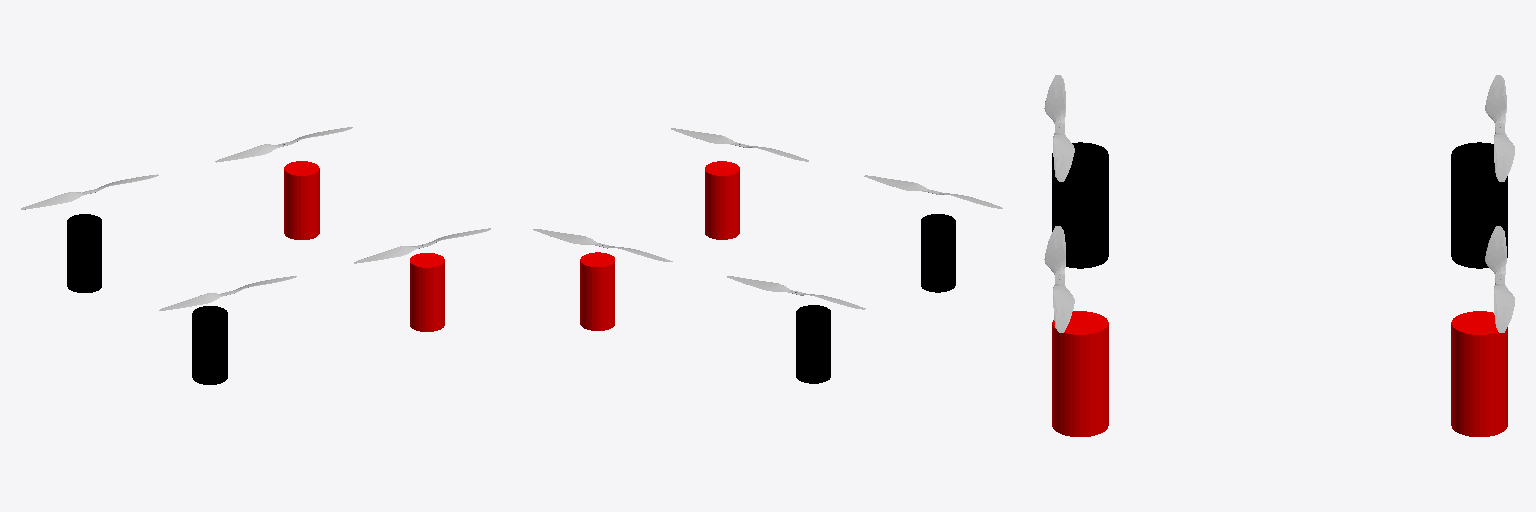
The robot description file, URDF, robot "a300":
<?xml version="1.0" ?>

<robot name="a300">

  <!-- The drone parameters and their randomization ranges are in hydra_configs/drone/a300.yaml, whose
       nominals are written into Genesis at build. kf and km are here because Genesis needs them to load. -->
  <properties kf="4.5e-8" km="5.4e-10" />

  <link name="base_link"> 

    <inertial>
      <origin rpy="0 0 0" xyz="0 0 0"/>
      <mass value="1.21"/>
      <inertia ixx=".007" ixy="0.0" ixz="0.0" iyy=".007" iyz="0.0" izz=".01"/>
    </inertial>

    <visual>
      <origin rpy="0 0 55" xyz="0 0 0.075"/>
      <geometry>
        <mesh filename="./mesh/a300/frame.stl" scale="0.001 0.001 0.001"/>
      </geometry> 
      <material name="frame">
        <color rgba="0.2 0.2 0.2 1"/>
      </material> 
    </visual>

    <visual>
      <origin rpy="0 0 55" xyz="0.106 -0.106 0.075"/>
      <geometry>
        <mesh filename="./mesh/a300/motor.stl" scale="0.001 0.001 0.001"/>
      </geometry> 
      <material name="motor">
        <color rgba="0 .0 .0 1"/>
      </material> 
    </visual>
    <visual>
      <origin rpy="0 0 55" xyz="-0.106 0.106 0.075"/>
      <geometry>
        <mesh filename="./mesh/a300/motor.stl" scale="0.001 0.001 0.001"/>
      </geometry> 
      <material name="motor">
        <color rgba="0 .0 .0 1"/>
      </material> 
    </visual>
    <visual>
      <origin rpy="0 0 55" xyz="0.106 0.106 0.075"/>
      <geometry>
        <mesh filename="./mesh/a300/motor.stl" scale="0.001 0.001 0.001"/>
      </geometry> 
      <material name="motor">
        <color rgba="0 .0 .0 1"/>
      </material> 
    </visual>
    <visual>
      <origin rpy="0 0 55" xyz="-0.106 -0.106 0.075"/>
      <geometry>
        <mesh filename="./mesh/a300/motor.stl" scale="0.001 0.001 0.001"/>
      </geometry> 
      <material name="motor">
        <color rgba="0 .0 .0 1"/>
      </material> 
    </visual>


<!-- Added 4 Cylindrical Legs -->
    <visual>
      <origin rpy="0 0 0" xyz="0.106 -0.106 -0.03"/>
      <geometry>
        <cylinder radius="0.015" length="0.06"/>
      </geometry>
      <material name="red"><color rgba="1 0 0 1"/></material>
    </visual>
    <visual>
      <origin rpy="0 0 0" xyz="-0.106 0.106 -0.03"/>
      <geometry>
        <cylinder radius="0.015" length="0.06"/>
      </geometry>
      <material name="black"><color rgba="0 0 0 1"/></material>
    </visual>
    <visual>
      <origin rpy="0 0 0" xyz="0.106 0.106 -0.03"/>
      <geometry>
        <cylinder radius="0.015" length="0.06"/>
      </geometry>
      <material name="red"><color rgba="1 0 0 1"/></material>
    </visual>
    <visual>
      <origin rpy="0 0 0" xyz="-0.106 -0.106 -0.03"/>
      <geometry>
        <cylinder radius="0.015" length="0.06"/>
      </geometry>
      <material name="black"><color rgba="0 0 0 1"/></material>
    </visual>


    <collision>
      <origin rpy="0 0 0" xyz="0 0 0"/>
      <geometry>
        <cylinder radius=".06" length=".025"/>
      </geometry>
    </collision>  

  </link>

  <!-- Rotor positions match the Gazebo model (alien_gazebo_resources a300.sdf.jinja,
       rotor_xy_offset = 0.1: x = +-0.095, y = +-0.117) instead of the symmetric +-0.106.
       Thrust is applied at each prop link's inertial origin. The frame/motor/leg visuals
       on base_link are unchanged. -->
  <link name="prop0_link">
    <inertial>
      <origin rpy="0 0 0" xyz="0.095 -0.117 0"/>
      <mass value="0"/>
      <inertia ixx="0" ixy="0" ixz="0" iyy="0" iyz="0" izz="0"/>
    </inertial>
    <visual>
      <origin rpy="0 0 0" xyz="0.095 -0.117 0.02"/>
      <geometry>
          <mesh filename="./mesh/a300/prop.dae"  scale="0.4 0.4 0.4"/>
      </geometry> 
    </visual>
  </link>
  <joint name="prop0_joint" type="fixed">
    <parent link="base_link"/>
    <child link="prop0_link"/>
  </joint>

  <link name="prop1_link">
    <inertial>
      <origin rpy="0 0 0" xyz="-0.095 0.117 0"/>
      <mass value="0"/>
      <inertia ixx="0" ixy="0" ixz="0" iyy="0" iyz="0" izz="0"/>
    </inertial>
    <visual>
      <origin rpy="0 0 0" xyz="-0.095 0.117 0.02"/>
      <geometry>
          <mesh filename="./mesh/a300/prop.dae"  scale="0.4 0.4 0.4"/>
      </geometry> 
    </visual>
  </link>
  <joint name="prop1_joint" type="fixed">
    <parent link="base_link"/>
    <child link="prop1_link"/>
  </joint>

  <link name="prop2_link">
    <inertial>
      <origin rpy="0 0 0" xyz="0.095 0.117 0"/>
      <mass value="0"/>
      <inertia ixx="0" ixy="0" ixz="0" iyy="0" iyz="0" izz="0"/>
    </inertial>
    <visual>
      <origin rpy="0 0 0" xyz="0.095 0.117 0.02"/>
      <geometry>
          <mesh filename="./mesh/a300/prop.dae"  scale="0.4 0.4 0.4"/>
      </geometry>
    </visual>
  </link>
  <joint name="prop2_joint" type="fixed">
    <parent link="base_link"/>
    <child link="prop2_link"/>
  </joint>

  <link name="prop3_link">
    <inertial>
      <origin rpy="0 0 0" xyz="-0.095 -0.117 0"/>
      <mass value="0"/>
      <inertia ixx="0" ixy="0" ixz="0" iyy="0" iyz="0" izz="0"/>
    </inertial>
    <visual>
      <origin rpy="0 0 0" xyz="-0.095 -0.117 0.02"/>
      <geometry>
          <mesh filename="./mesh/a300/prop.dae"  scale="0.4 0.4 0.4"/>
      </geometry>
    </visual>
  </link>
  <joint name="prop3_joint" type="fixed">
    <parent link="base_link"/>
    <child link="prop3_link"/>
  </joint>


  <link name="center_of_mass_link">
    <inertial>
      <origin rpy="0 0 0" xyz="0 0 0"/>
      <mass value="0"/>
      <inertia ixx="0" ixy="0" ixz="0" iyy="0" iyz="0" izz="0"/>
    </inertial>
  </link>
  <joint name="center_of_mass_joint" type="fixed">
    <parent link="base_link"/>
    <child link="center_of_mass_link"/>
  </joint>

</robot>

--- Facts derived from the render (not from the file) ---
3 views of the same robot in one strip: view 1: azimuth 30°, elevation 25°; view 2: azimuth 150°, elevation 25°; view 3: azimuth 270°, elevation 25° (orthographic).
Robot: a300 — 6 links, 5 joints (5 fixed); root link base_link; default pose: every joint at zero.
Visible links, largest first — view 1: base_link, prop2_link, prop0_link, prop1_link, prop3_link; view 2: base_link, prop2_link, prop0_link, prop3_link, prop1_link; view 3: base_link, prop1_link, prop2_link, prop0_link, prop3_link.
Boxes of the visible links, left/top/right/bottom form: base_link: left=67, top=161, right=444, bottom=384; prop2_link: left=215, top=127, right=352, bottom=162; prop0_link: left=354, top=228, right=490, bottom=263; prop1_link: left=21, top=174, right=158, bottom=209; prop3_link: left=159, top=276, right=296, bottom=310; base_link: left=580, top=161, right=955, bottom=383; prop2_link: left=533, top=229, right=672, bottom=261; prop0_link: left=671, top=128, right=808, bottom=161; prop3_link: left=864, top=175, right=1002, bottom=208; prop1_link: left=727, top=276, right=865, bottom=309; base_link: left=1052, top=142, right=1507, bottom=436; prop1_link: left=1485, top=75, right=1514, bottom=181; prop2_link: left=1485, top=226, right=1514, bottom=332; prop0_link: left=1044, top=226, right=1074, bottom=332; prop3_link: left=1044, top=75, right=1074, bottom=181.
Size in the robot's own frame: 0.3252 by 0.2502 by 0.0832 metres.
Meshes: 3 distinct files referenced, 4 mesh visuals loaded (1 Collada DAE); not drawn: 5 (reference not matched to a file when rendering).
